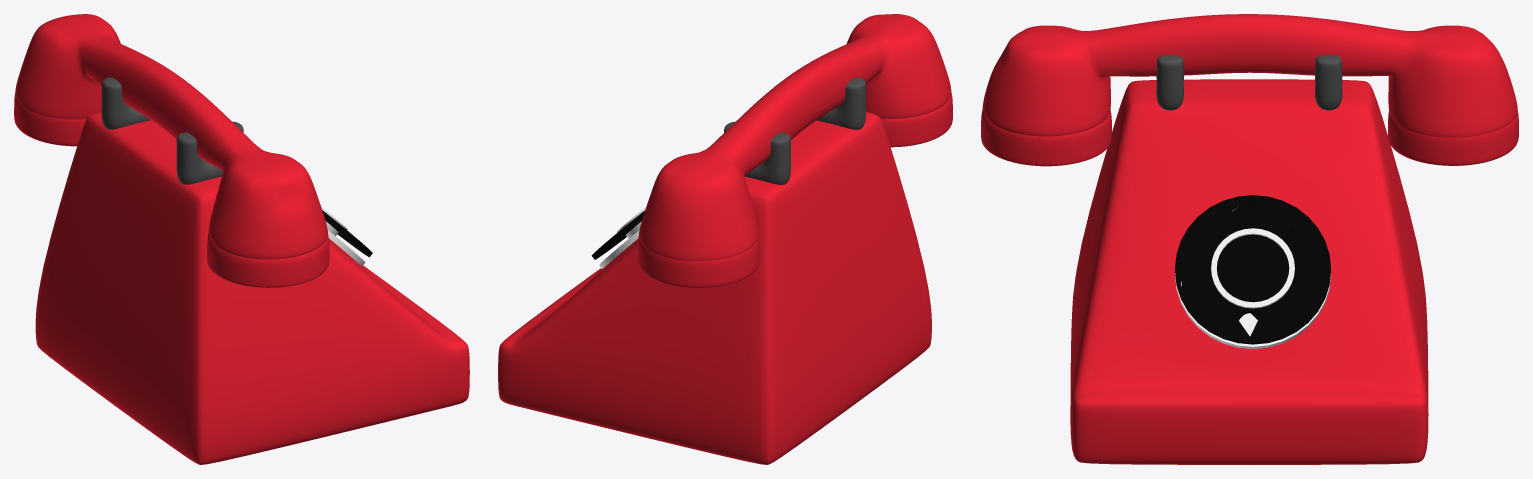
File: legend phone1.fbx
3 renders of one model, left to right at view 1: azimuth 30°, elevation 25°; view 2: azimuth 150°, elevation 25°; view 3: azimuth 270°, elevation 25°, orthographic. The views are drawn at different scales.
Visible parts, largest first — view 1: Dailer; view 2: Dailer; view 3: Dailer.
Part boxes in pixels (x1,y1,x2,y2): Dailer: [14, 14, 469, 464]; Dailer: [498, 14, 952, 464]; Dailer: [981, 14, 1518, 464].
Size of the model in its own units: 358 by 397 by 568.
